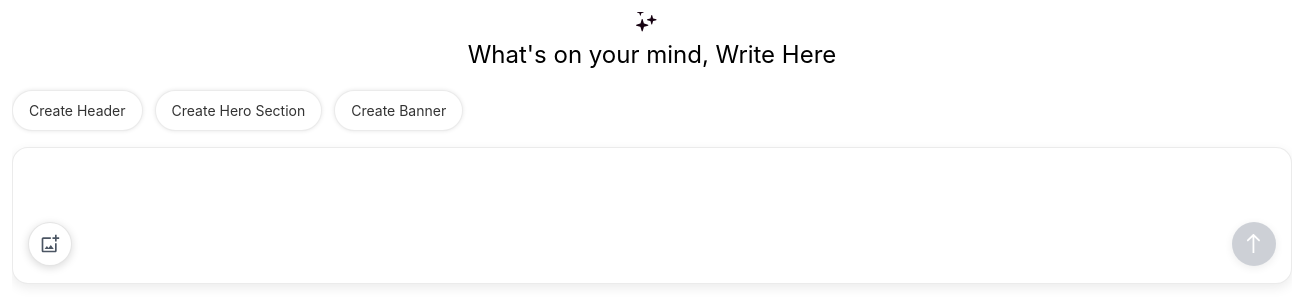
Scenario: GenerateDialog — prompt submit › disables the arrow button until the prompt is non-empty
The width and height of the screenshot is (1304, 304).
Expected: the button named "Generate" is disabled, [1232,222,1276,266]
Step 1. Type "make a hero" into the text box → (652, 216), box [12,147,1292,284]
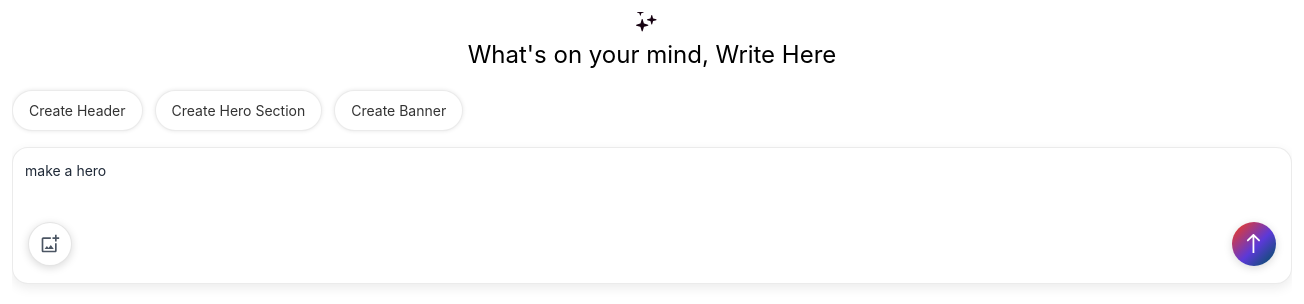
Now the button named "Generate" is enabled, box [1232,222,1276,266]
